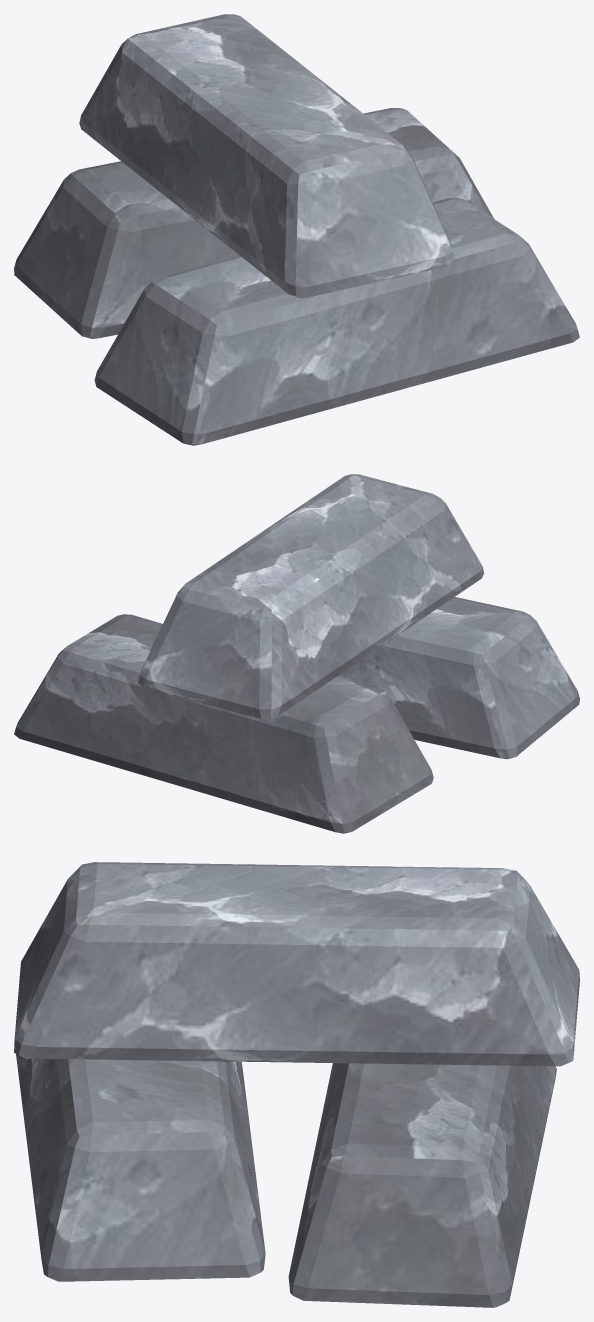
File: tin_ingot.glb
The picture shows the model from 3 angles, top to bottom: view 1: azimuth 30°, elevation 25°; view 2: azimuth 150°, elevation 25°; view 3: azimuth 270°, elevation 25°; orthographic projection. The views are drawn at different scales.
Visible parts, largest first — view 1: model; view 2: model; view 3: model.
Boxes of the visible parts, x1,y1,x2,y2 form: model: (14,14,579,445); model: (14,474,579,833); model: (14,862,579,1307).
Size of the model in its own units: 0.2408 by 0.115 by 0.2162.
Materials: 3 (3 with a texture image).
